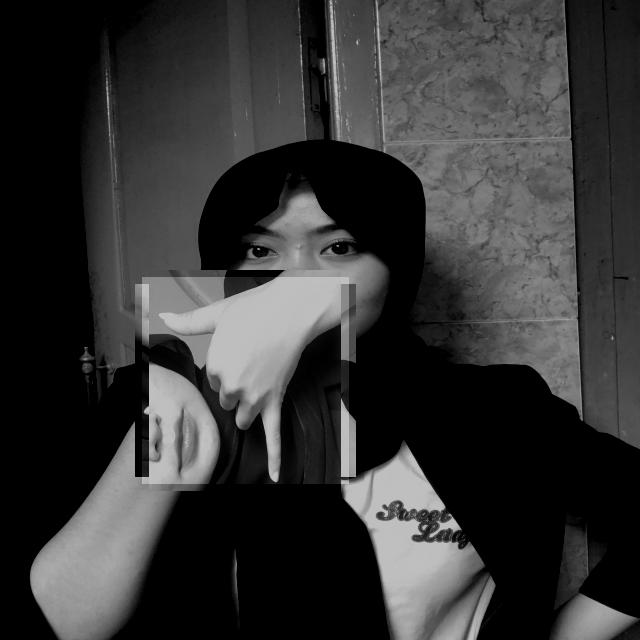telpon: (142, 277, 349, 484)
